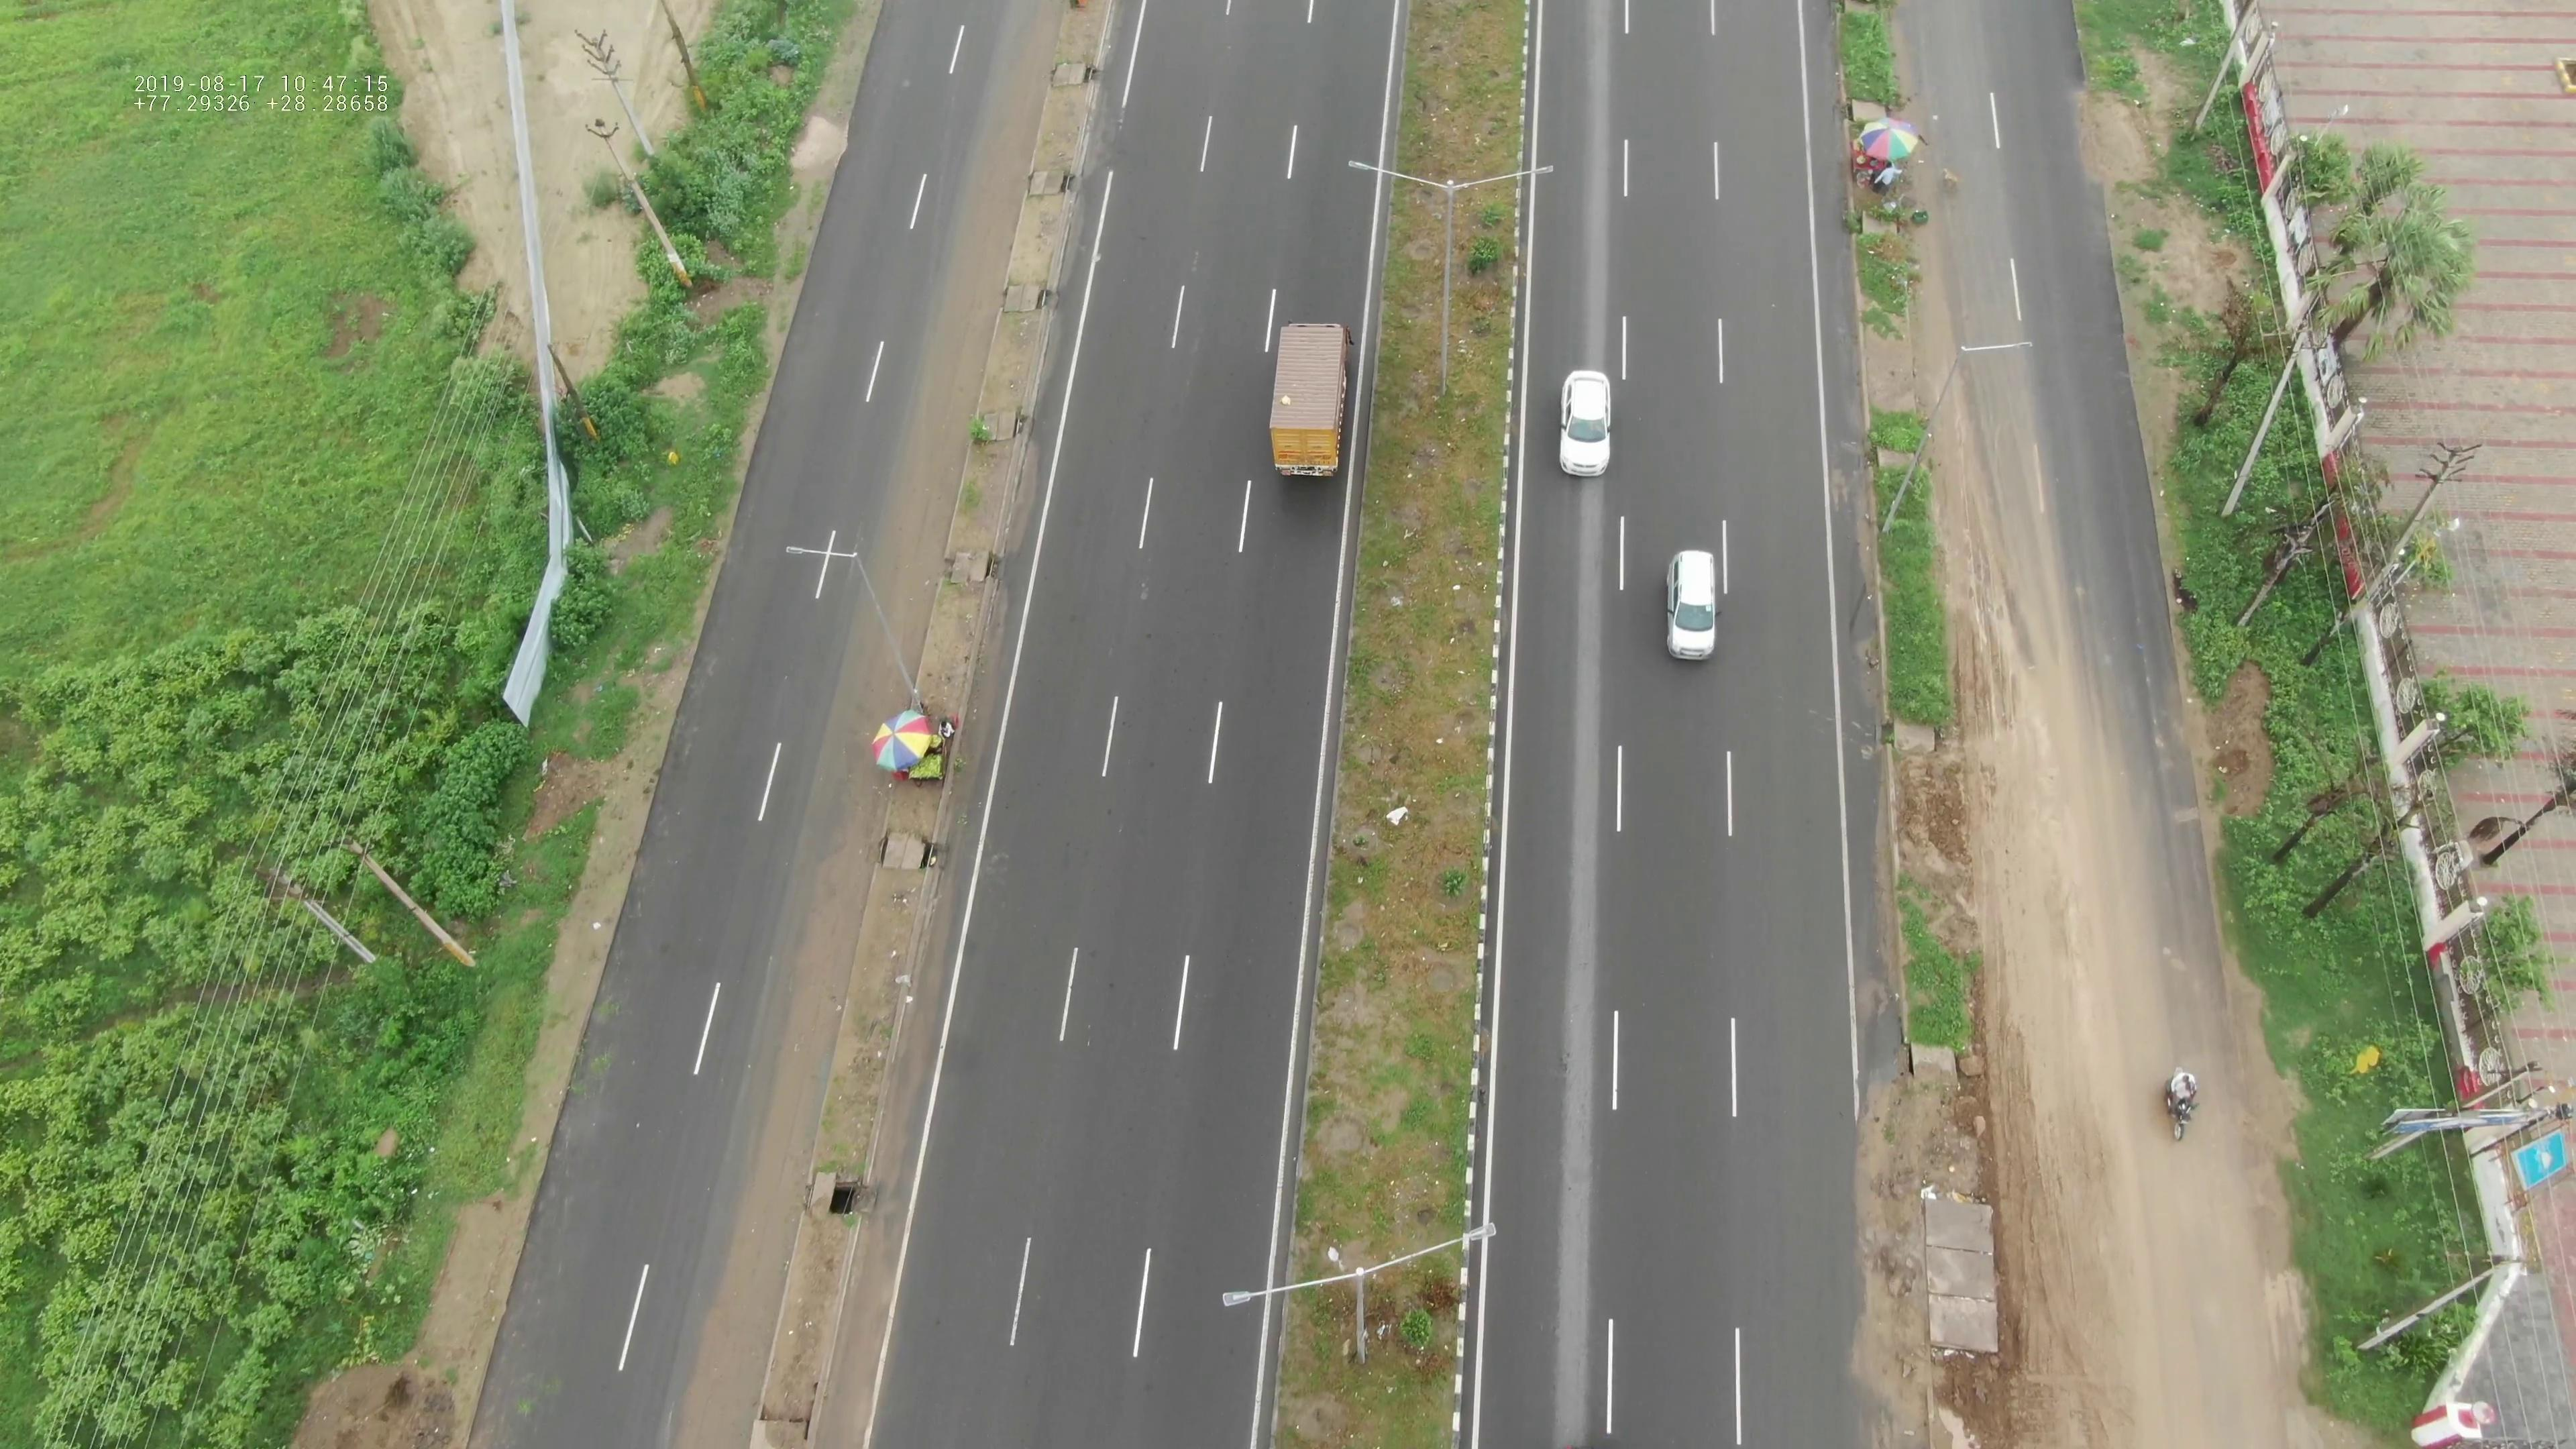Muddy_road: (1934, 775, 2105, 1100)
